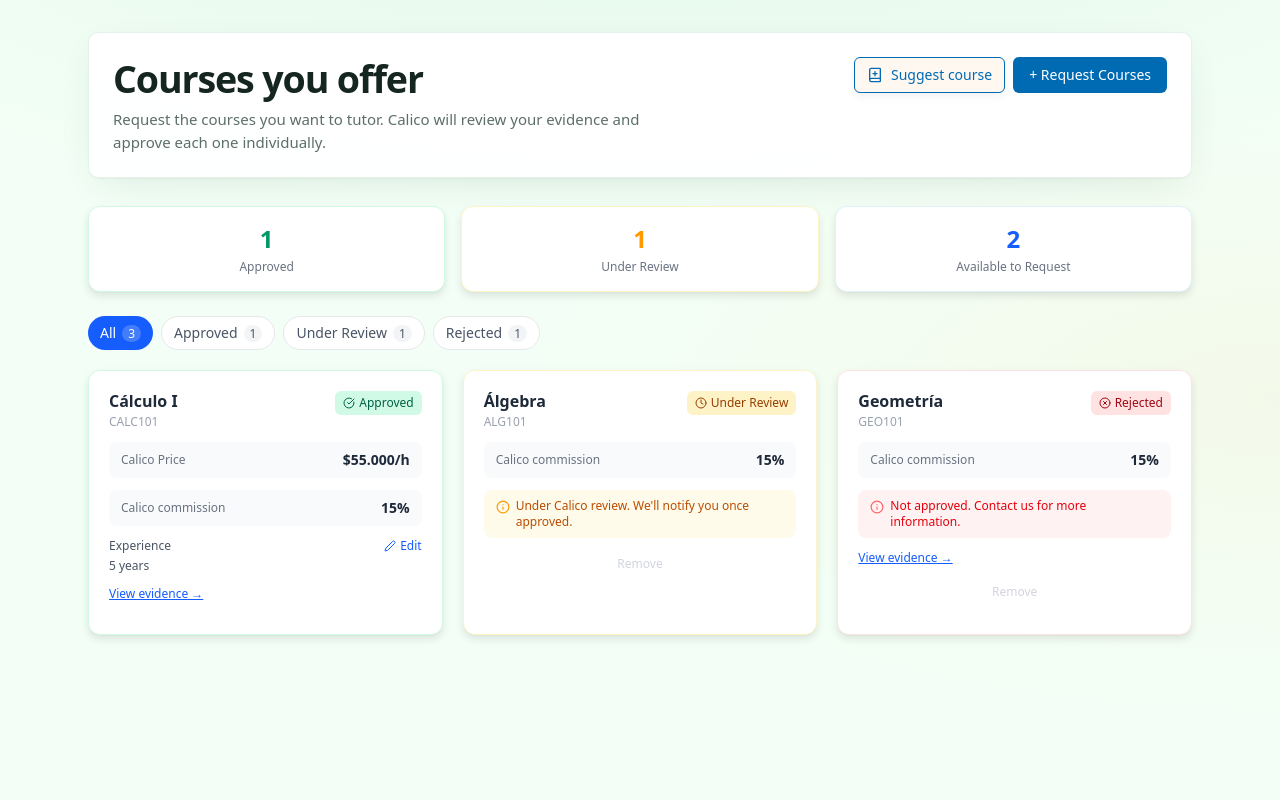
Test: TutorMaterias Component › should remove course when delete button clicked
The image size is (1280, 800).
Check: the heading "Cálculo I" is shown, box [109,390,178,412]
Check: the heading "Álgebra" is shown, box [484,390,546,412]
Find and click delete button for Álgebra course (pending/rejected have remove buttons)
Click the button "Remove" below "ALG101": point(640, 564) [484,552,796,576]
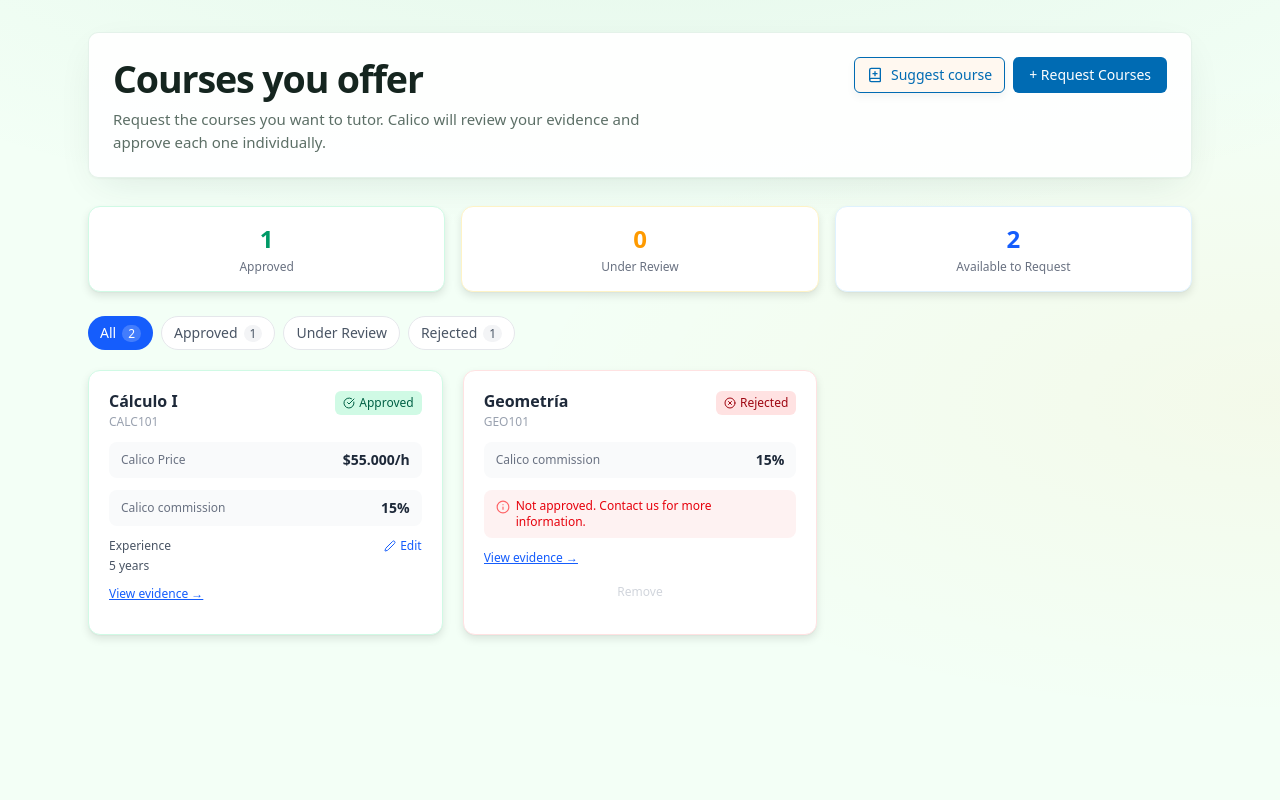
Check: the heading "Álgebra" is gone
